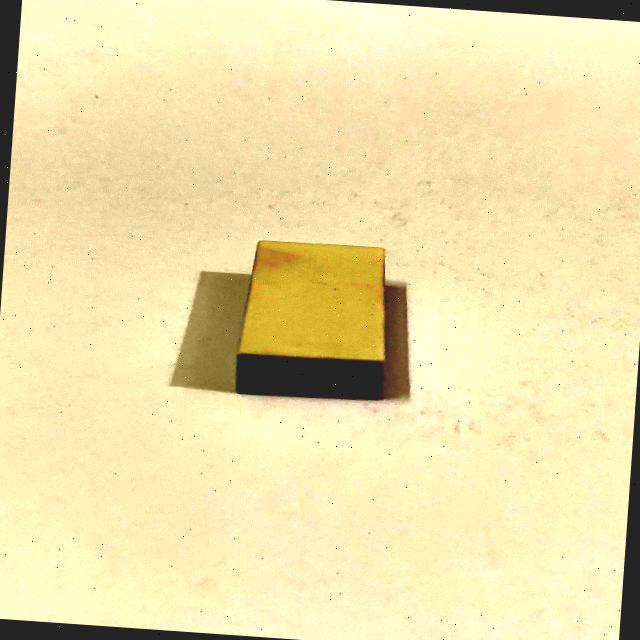Eraser: (177, 172, 448, 438)
